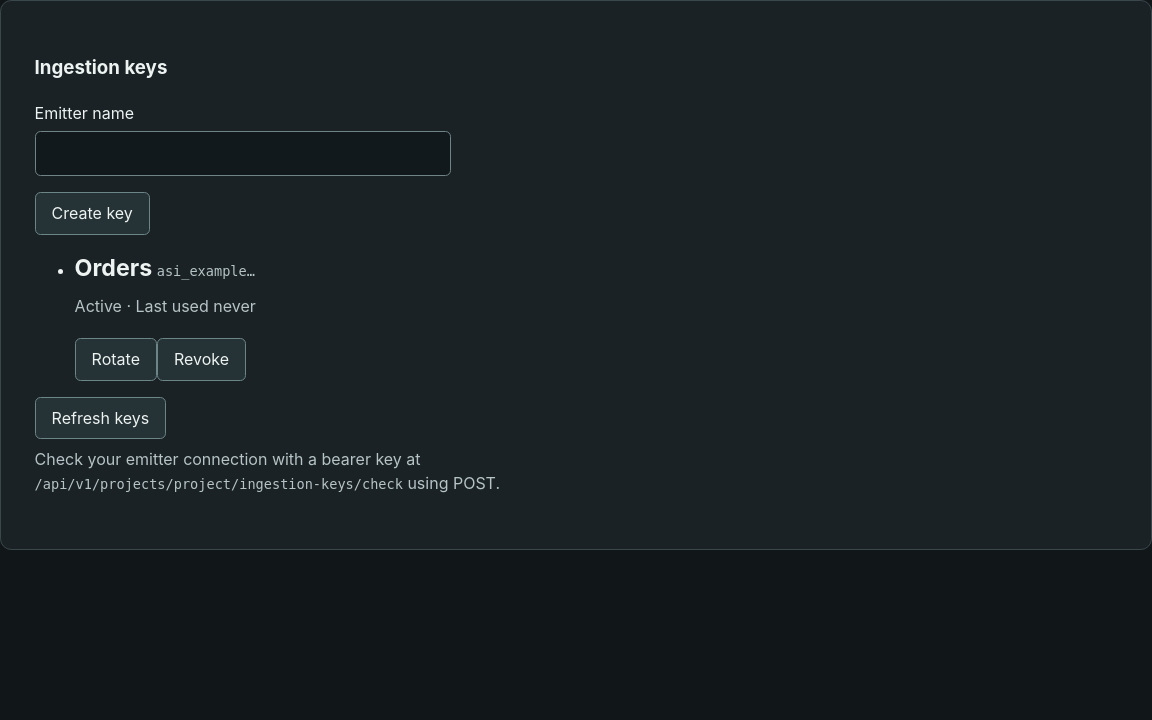
Test case: keeps an issued key available when the metadata refresh fails temporarily
Step 1. Click the button "Rotate" → (116, 359), box [75,338,157,380]
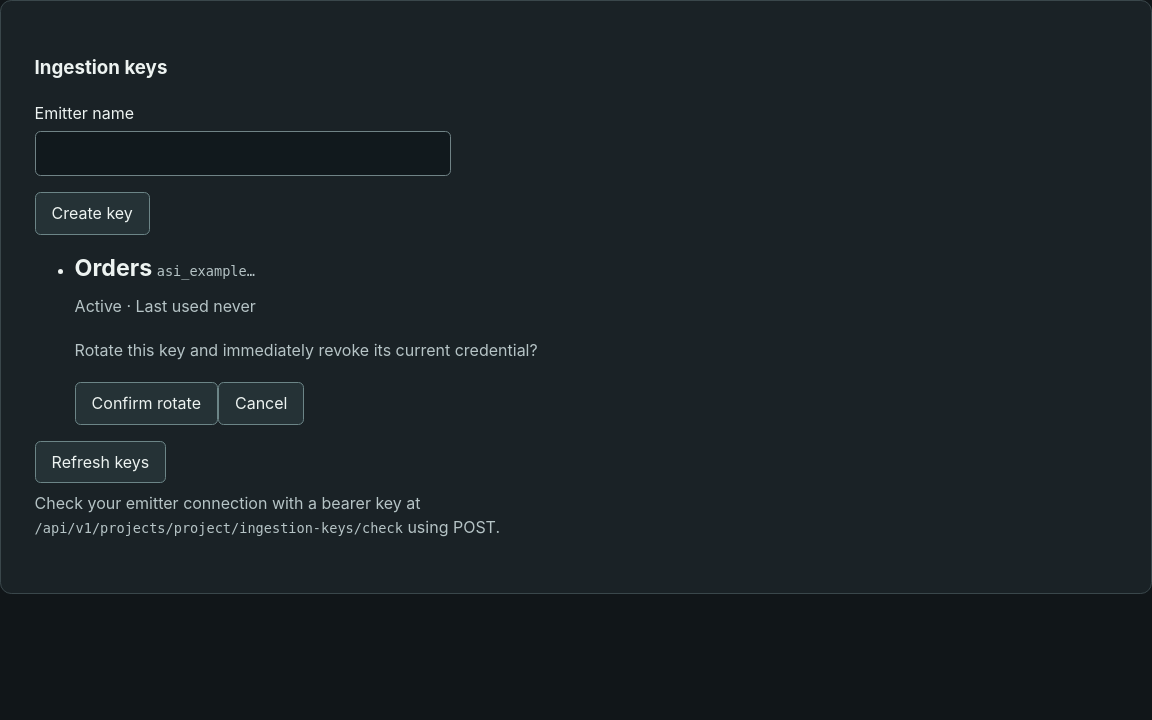
Step 2. Click the button "Confirm rotate" → (146, 403), box [75,382,218,424]
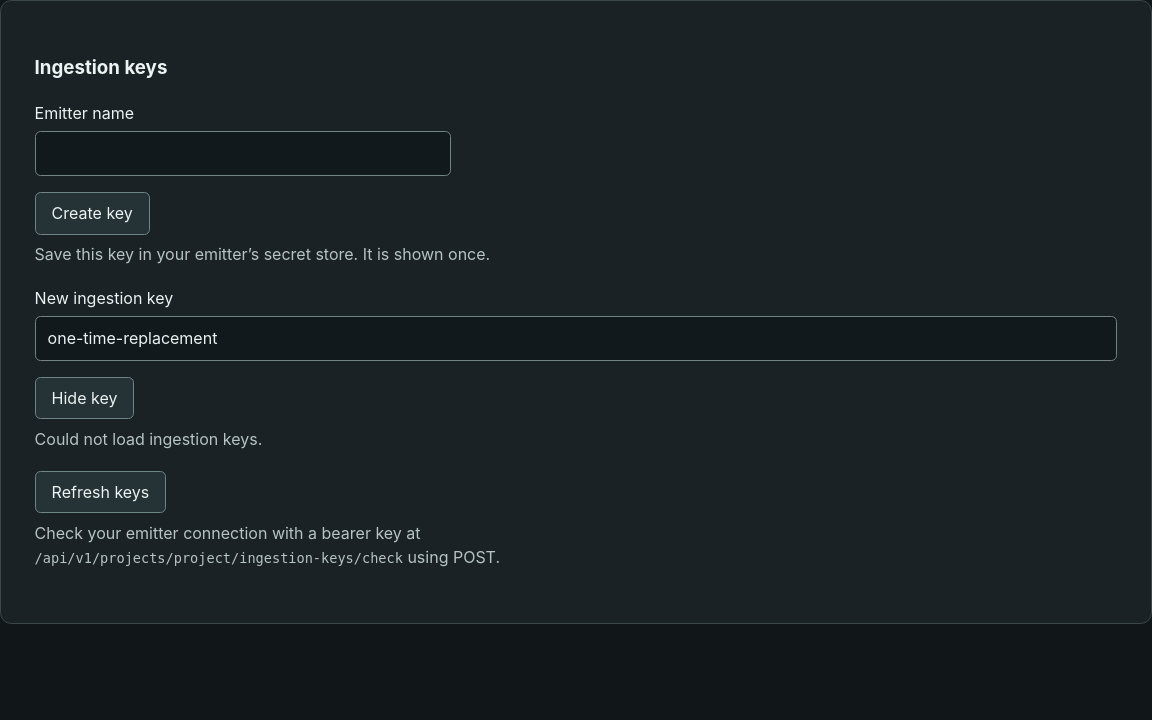
Check: the text "Could not load ingestion keys." is shown, box [35,428,262,448]
Check: the field showing "one-time-replacement" is shown, box [35,316,1117,361]
